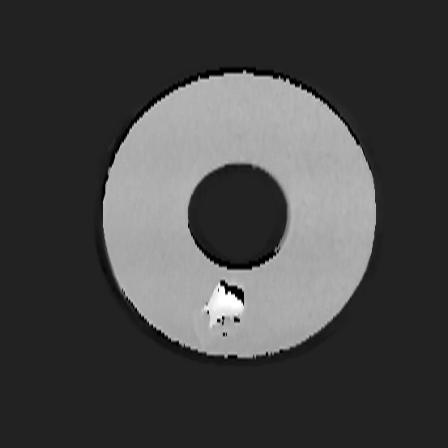defect: (201, 279, 245, 339)
